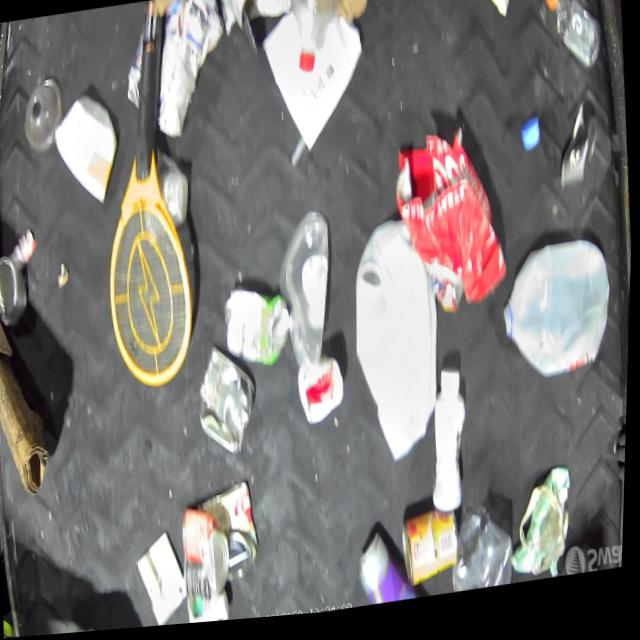can: (192, 335, 263, 465), (197, 474, 268, 594), (176, 496, 241, 613), (395, 504, 470, 598), (0, 238, 34, 328)
milk_jug: (344, 216, 455, 481), (498, 240, 622, 399)
non_white_jug: (359, 527, 433, 613)
plastic_bottle: (285, 0, 358, 87), (541, 0, 607, 86)
